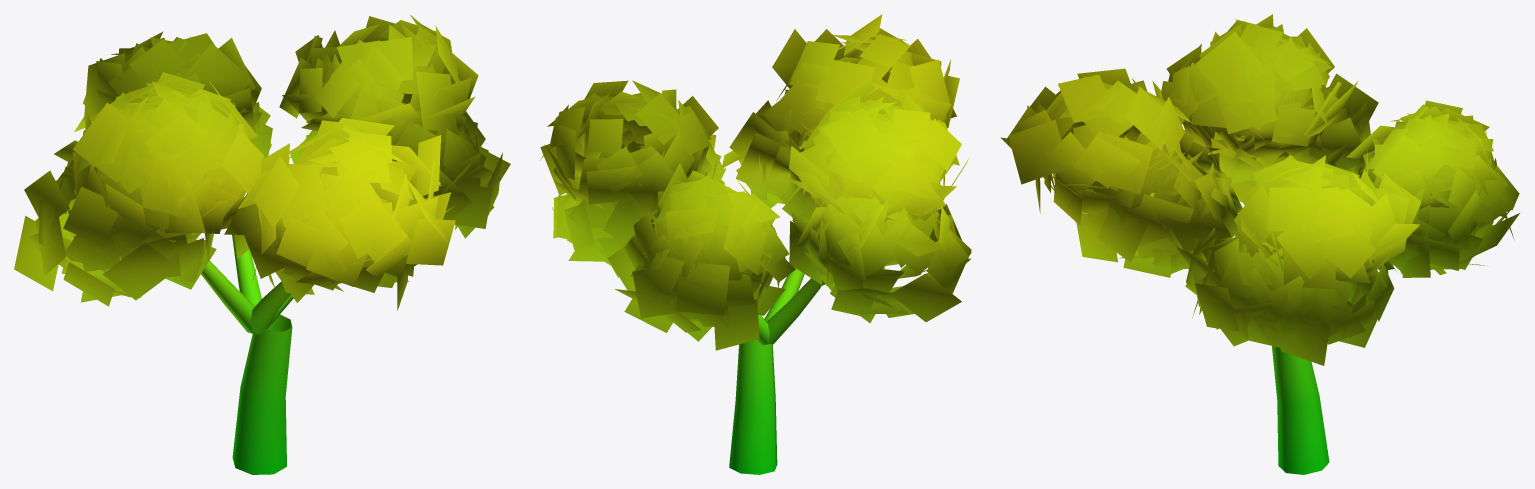
The model's file is kaki_a.glb.
The picture shows the model from 3 angles, left to right: view 1: azimuth 30°, elevation 25°; view 2: azimuth 150°, elevation 25°; view 3: azimuth 270°, elevation 25°; orthographic projection. The views are drawn at different scales.
Parts seen in each view (by area): view 1: kaki_a; view 2: kaki_a; view 3: kaki_a.
Part boxes in pixels (x1,y1,x2,y2): kaki_a: (14,15,510,474); kaki_a: (540,14,971,474); kaki_a: (1000,14,1519,474).
Bounding box in the file's own units: 5.61 × 5.1 × 6.1.
